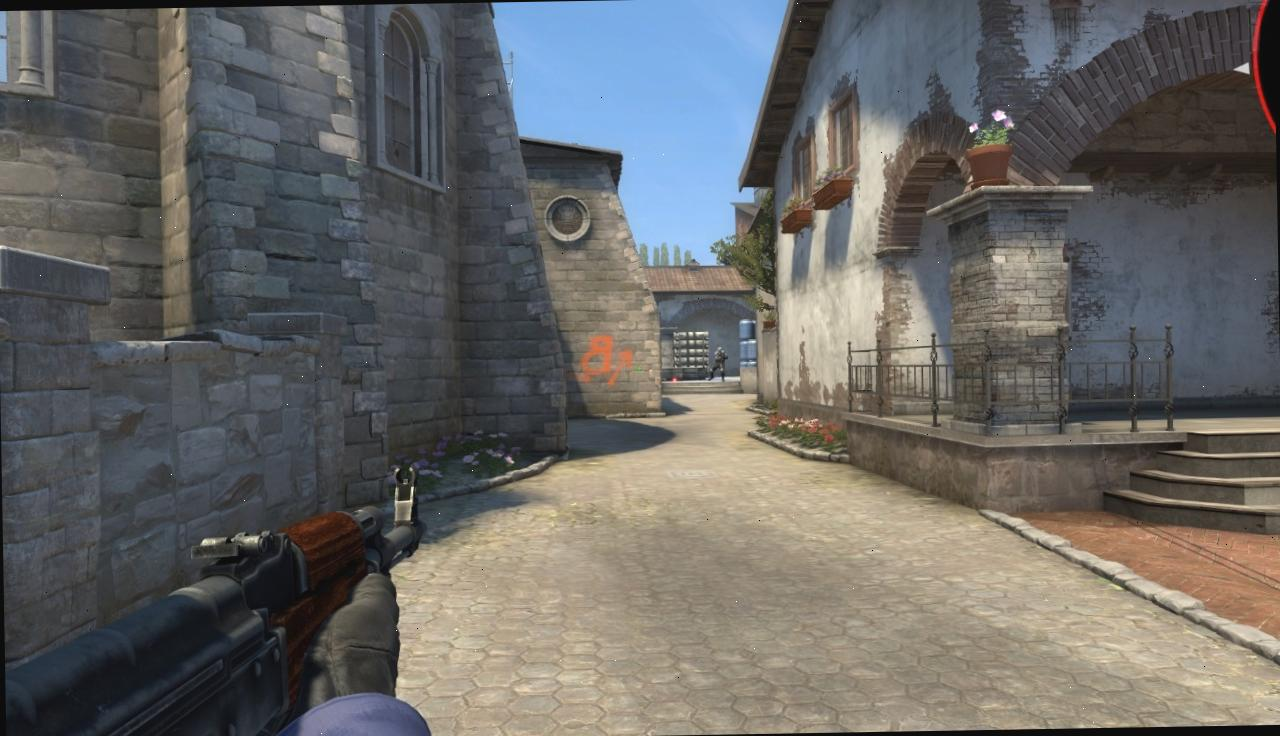ct: (712, 346, 726, 382)
cthead: (716, 346, 724, 354)
rifle: (1, 464, 429, 736)
